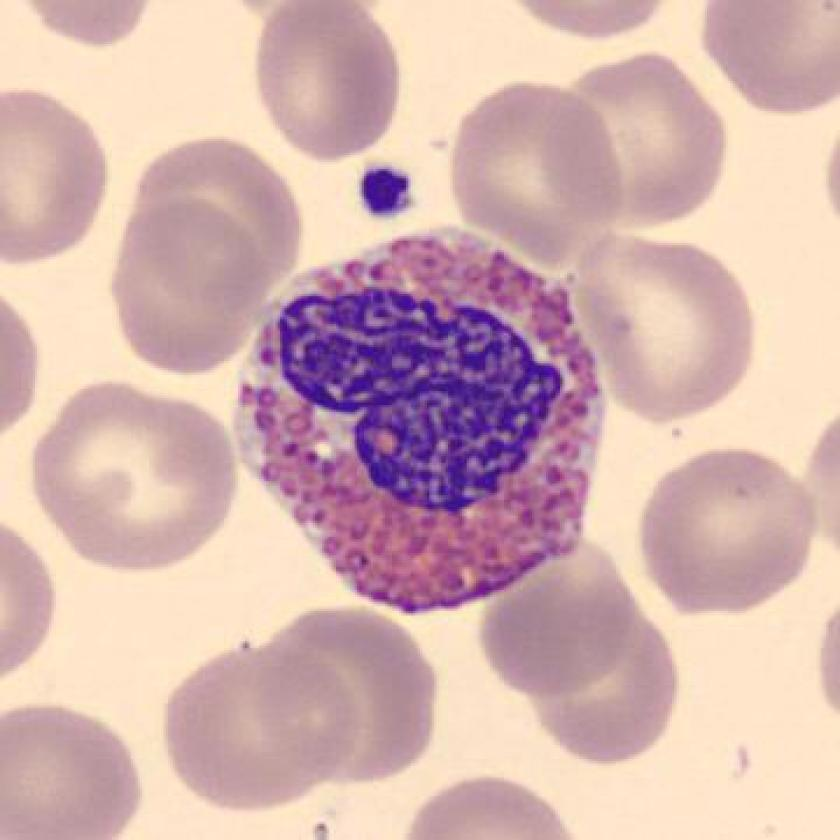eosinophil: (218, 212, 610, 626)
